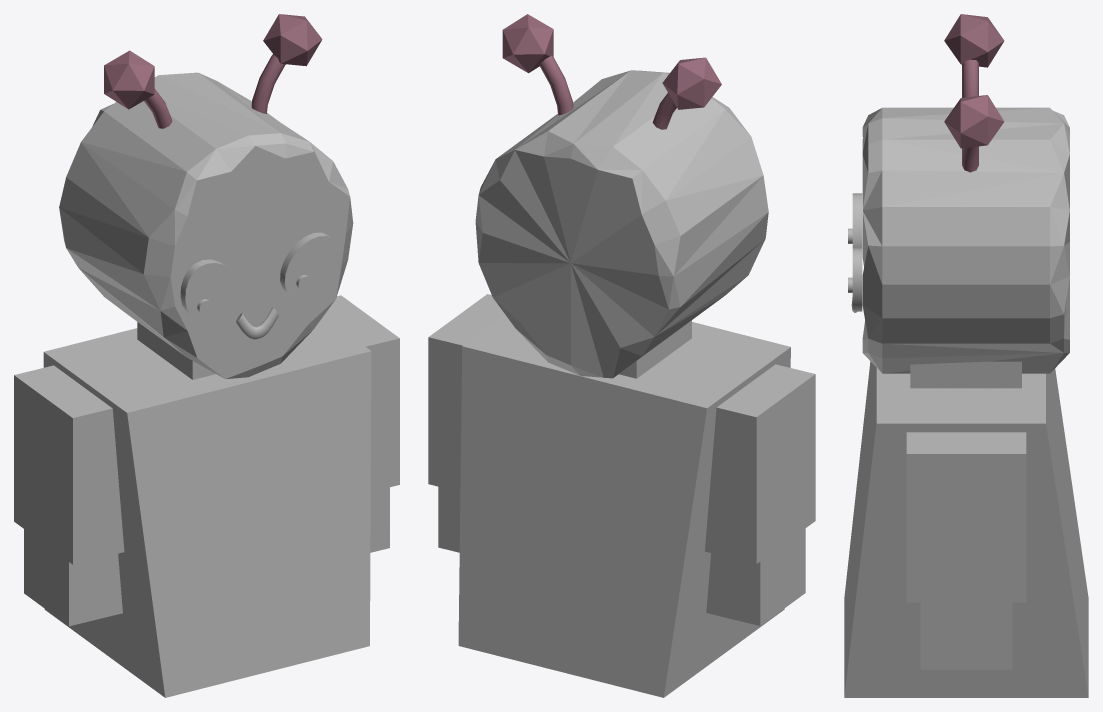
The model's file is CustomerAlien.fbx.
3 renders of one model, left to right at view 1: azimuth 30°, elevation 25°; view 2: azimuth 150°, elevation 25°; view 3: azimuth 270°, elevation 25°, orthographic.
Visible parts, largest first — view 1: shirt, skin, hairBrows, eyes, mouth; view 2: shirt, skin, hairBrows; view 3: shirt, skin, hairBrows, eyes.
Boxes of the visible parts, x1=… form: shirt: x1=14, y1=295, x2=399, y2=697; skin: x1=24, y1=72, x2=389, y2=626; hairBrows: x1=104, y1=14, x2=322, y2=128; eyes: x1=180, y1=232, x2=340, y2=323; mouth: x1=236, y1=307, x2=278, y2=339; shirt: x1=428, y1=294, x2=815, y2=697; skin: x1=438, y1=70, x2=805, y2=625; hairBrows: x1=502, y1=14, x2=721, y2=129; shirt: x1=844, y1=361, x2=1088, y2=697; skin: x1=862, y1=107, x2=1069, y2=669; hairBrows: x1=944, y1=14, x2=1004, y2=172; eyes: x1=852, y1=193, x2=862, y2=311.
Bounding box in the file's own units: 3.12 × 5.35 × 1.99.
